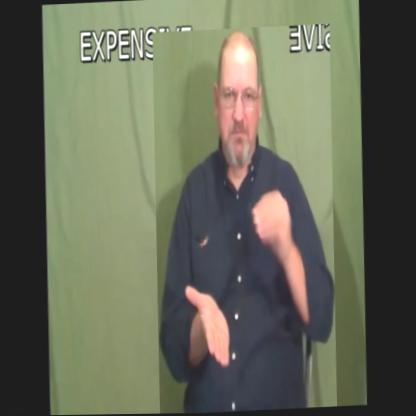Expensive: (148, 24, 343, 414)
